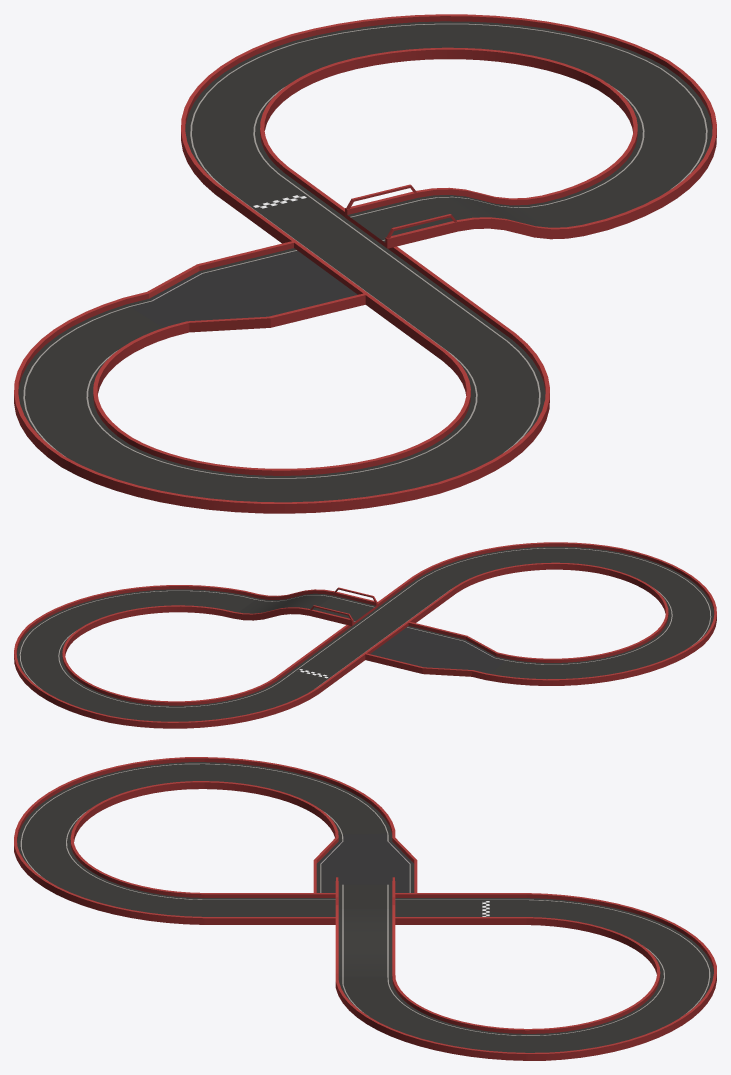
File: Space8MapExported.obj
3 views of the same model, one above another, from view 1: azimuth 30°, elevation 25°; view 2: azimuth 150°, elevation 25°; view 3: azimuth 270°, elevation 25° (orthographic). The views are drawn at different scales.
Visible parts, largest first — view 1: SR_Env_Raised_Track_StartingLine_Red-Merged_0, SR_Env_Raised_Track_StartingLine_Red-Merged_2, SR_Env_Raised_Track_StartingLine_Red-Merged_1; view 2: SR_Env_Raised_Track_StartingLine_Red-Merged_0, SR_Env_Raised_Track_StartingLine_Red-Merged_2, SR_Env_Raised_Track_StartingLine_Red-Merged_1; view 3: SR_Env_Raised_Track_StartingLine_Red-Merged_0, SR_Env_Raised_Track_StartingLine_Red-Merged_2.
Boxes of the visible parts, box(x1,y1,x2,y2) form: SR_Env_Raised_Track_StartingLine_Red-Merged_0: box(14, 14, 716, 513); SR_Env_Raised_Track_StartingLine_Red-Merged_2: box(130, 250, 357, 327); SR_Env_Raised_Track_StartingLine_Red-Merged_1: box(189, 318, 270, 332); SR_Env_Raised_Track_StartingLine_Red-Merged_0: box(14, 542, 716, 728); SR_Env_Raised_Track_StartingLine_Red-Merged_2: box(370, 627, 505, 673); SR_Env_Raised_Track_StartingLine_Red-Merged_1: box(422, 668, 471, 676); SR_Env_Raised_Track_StartingLine_Red-Merged_0: box(14, 757, 716, 1060); SR_Env_Raised_Track_StartingLine_Red-Merged_2: box(317, 833, 413, 892).
Size of the model in its own units: 262 by 15.42 by 262.
Materials: 5 (1 with a texture image).
